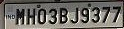character: (15, 8, 25, 25), (27, 7, 36, 25), (70, 6, 79, 24), (102, 6, 111, 24), (112, 5, 121, 23), (48, 7, 57, 24), (59, 7, 68, 24), (91, 6, 100, 23), (37, 8, 46, 24), (81, 7, 90, 23)
